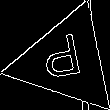P_S: (42, 33, 90, 89)
